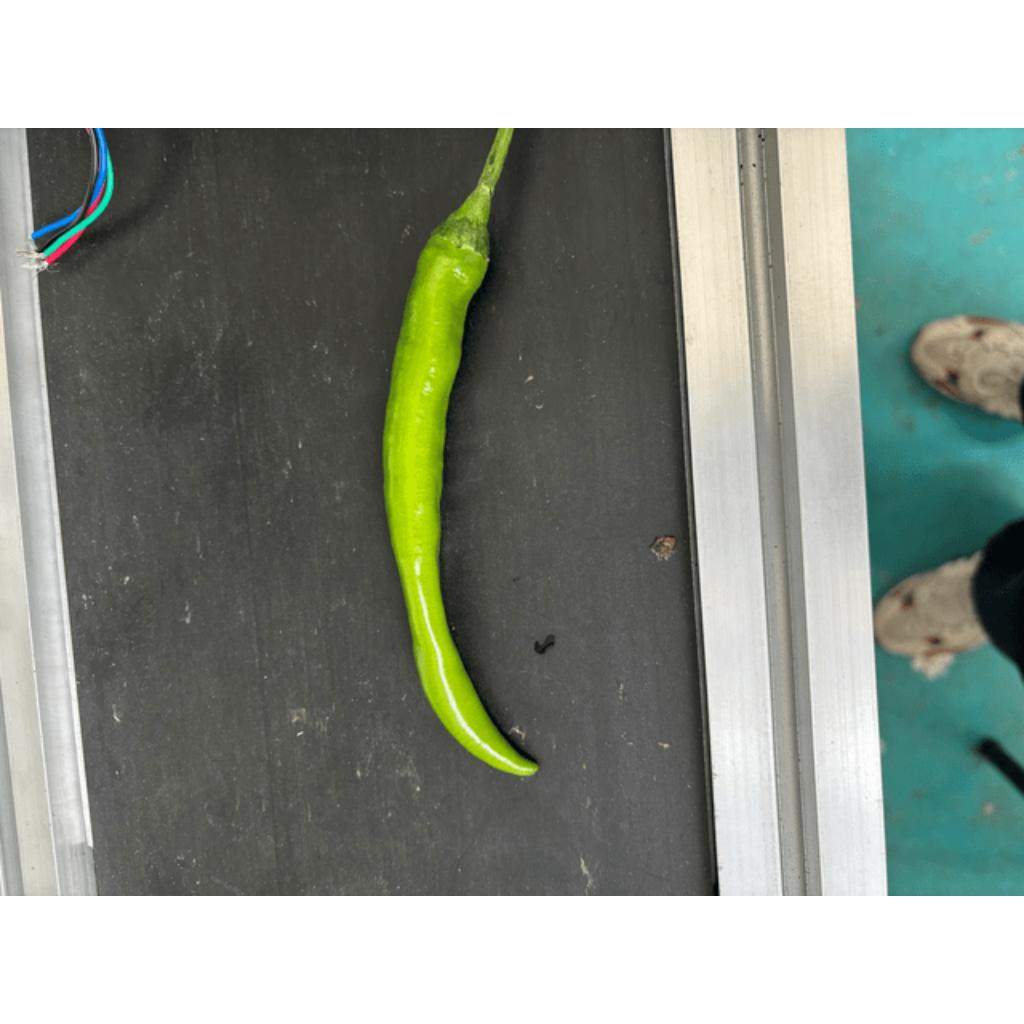chili: (379, 210, 541, 777)
